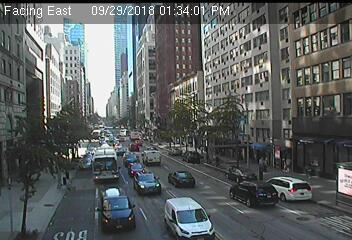car: (163, 197, 215, 240), (97, 187, 137, 231), (263, 177, 312, 203), (229, 181, 278, 207), (92, 146, 119, 182), (133, 172, 162, 197), (225, 166, 259, 185), (168, 170, 196, 188), (141, 150, 161, 165), (127, 163, 146, 178), (122, 152, 141, 166), (181, 151, 200, 164), (79, 158, 92, 172), (166, 147, 182, 157), (83, 153, 93, 163)
